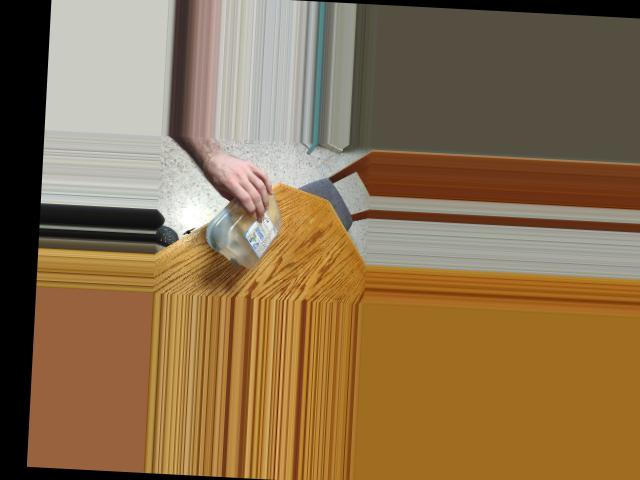cheese: (208, 172, 286, 271)
